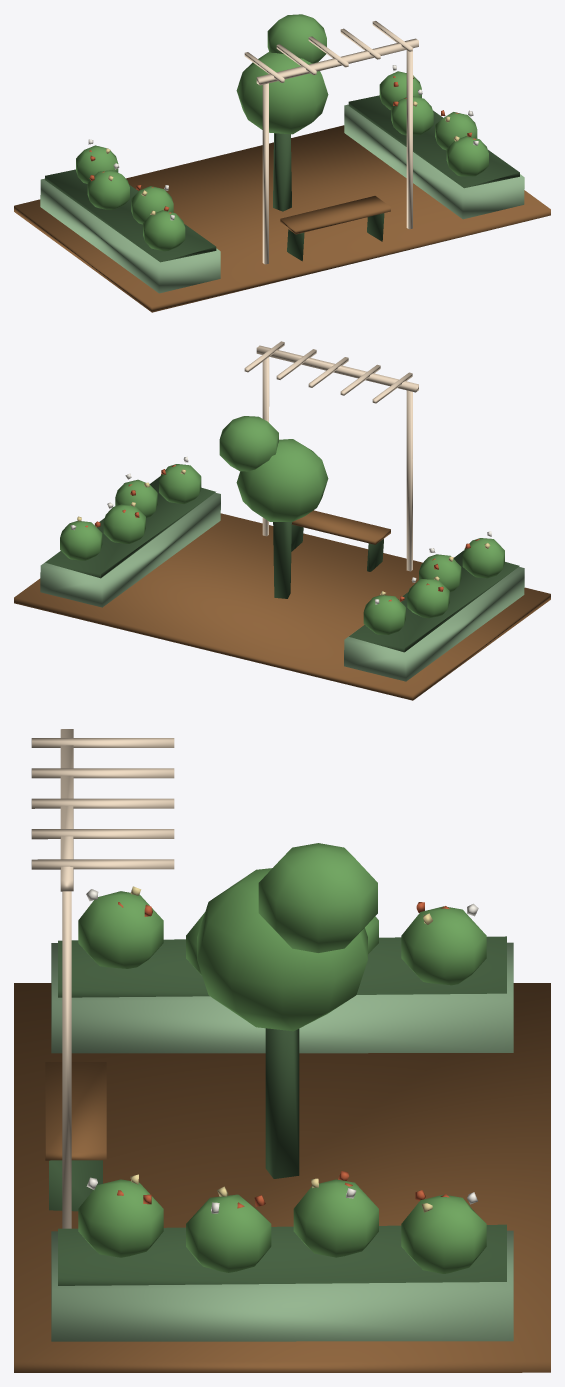
The model's file is rooftop_garden.glb.
The picture shows the model from 3 angles, top to bottom: view 1: azimuth 30°, elevation 25°; view 2: azimuth 150°, elevation 25°; view 3: azimuth 270°, elevation 25°; orthographic projection. The views are drawn at different scales.
Parts seen in each view (by area): view 1: rooftop_garden; view 2: rooftop_garden; view 3: rooftop_garden.
Boxes of the visible parts, <box> form: rooftop_garden: <box>14,14,550,312</box>; rooftop_garden: <box>14,341,550,700</box>; rooftop_garden: <box>14,729,550,1372</box>.
Size of the model in its own units: 4.99 by 2.36 by 2.99.
